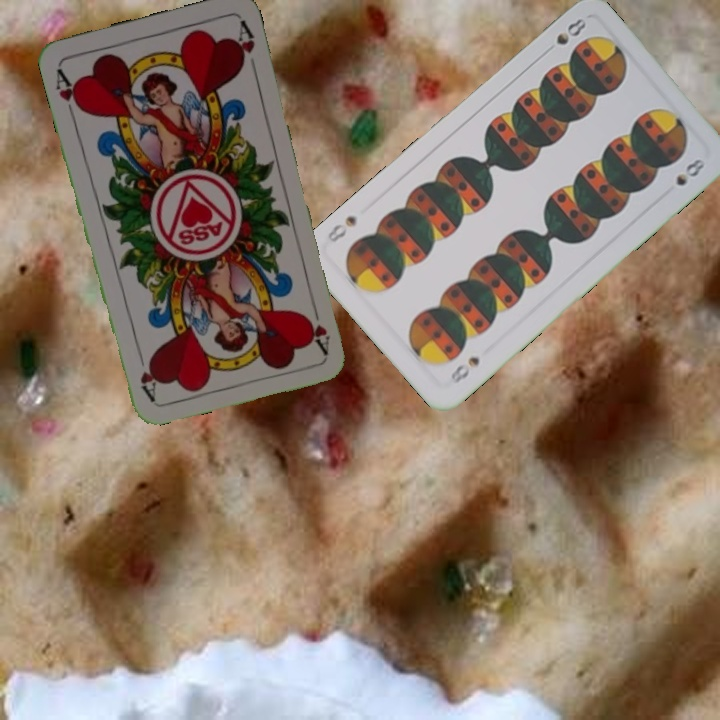HA: (51, 64, 85, 121), (303, 297, 333, 356)
S8: (446, 352, 483, 387), (552, 13, 589, 48)
